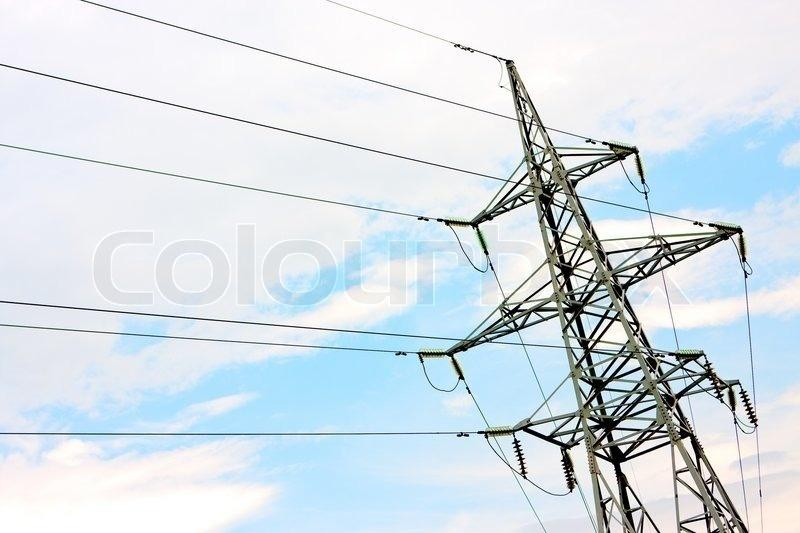power_tower: (396, 35, 772, 529)
